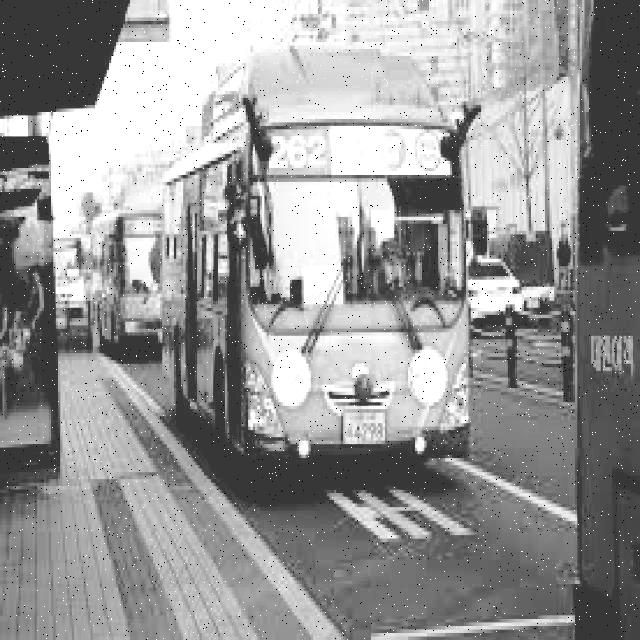Bus: (154, 21, 489, 475), (86, 208, 174, 356)
